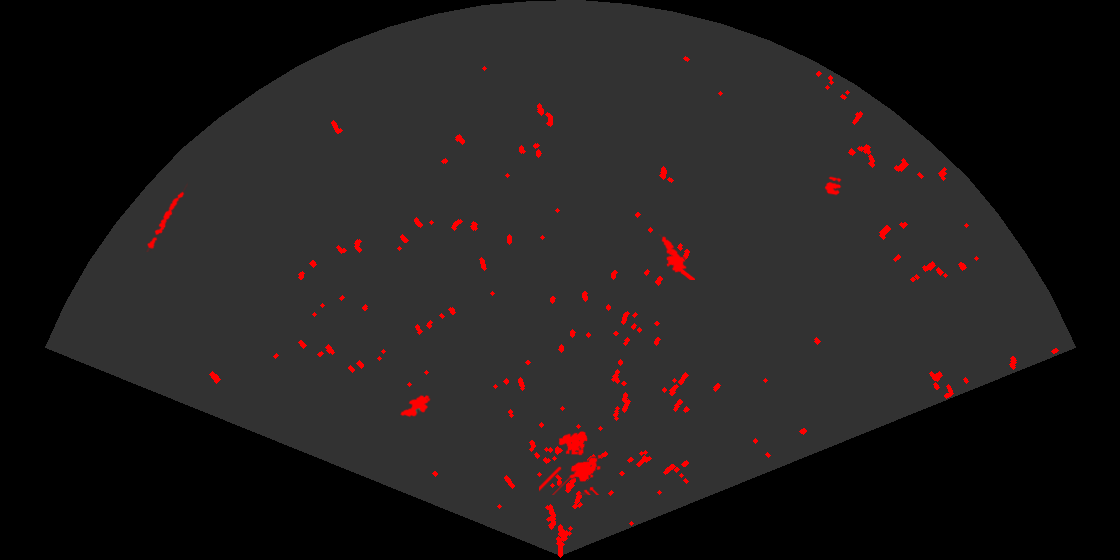AUV: (399, 393, 432, 419)
ball: (823, 175, 843, 197)
cage: (539, 429, 603, 495)
chain: (145, 182, 188, 252)
frogman: (657, 234, 695, 280)
